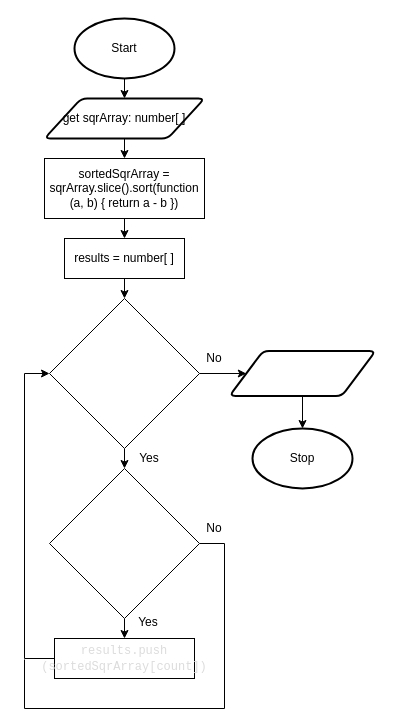
The diagram is 394 pixels wide and 727 high, and some of its shapes have lost their labels. Here are the shapes that lost their labels. From the top down, the centre of each, then its label:
At point (124, 373): "for (let count = 0;count < sortedqrArray.length - 1; count++)".
At point (302, 373): "return result.length !== 0".
At point (124, 543): "if sortedSqrArray[count + 1] === sortedSqrArray[count]".
